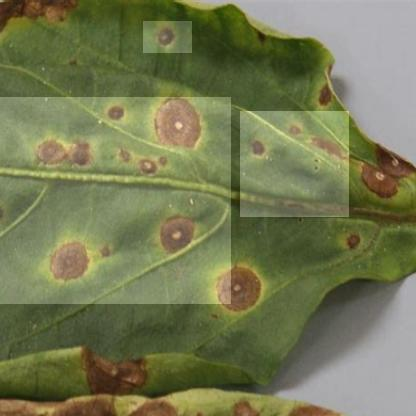black-spot: (0, 97, 231, 304), (240, 112, 349, 218), (143, 22, 192, 53)
